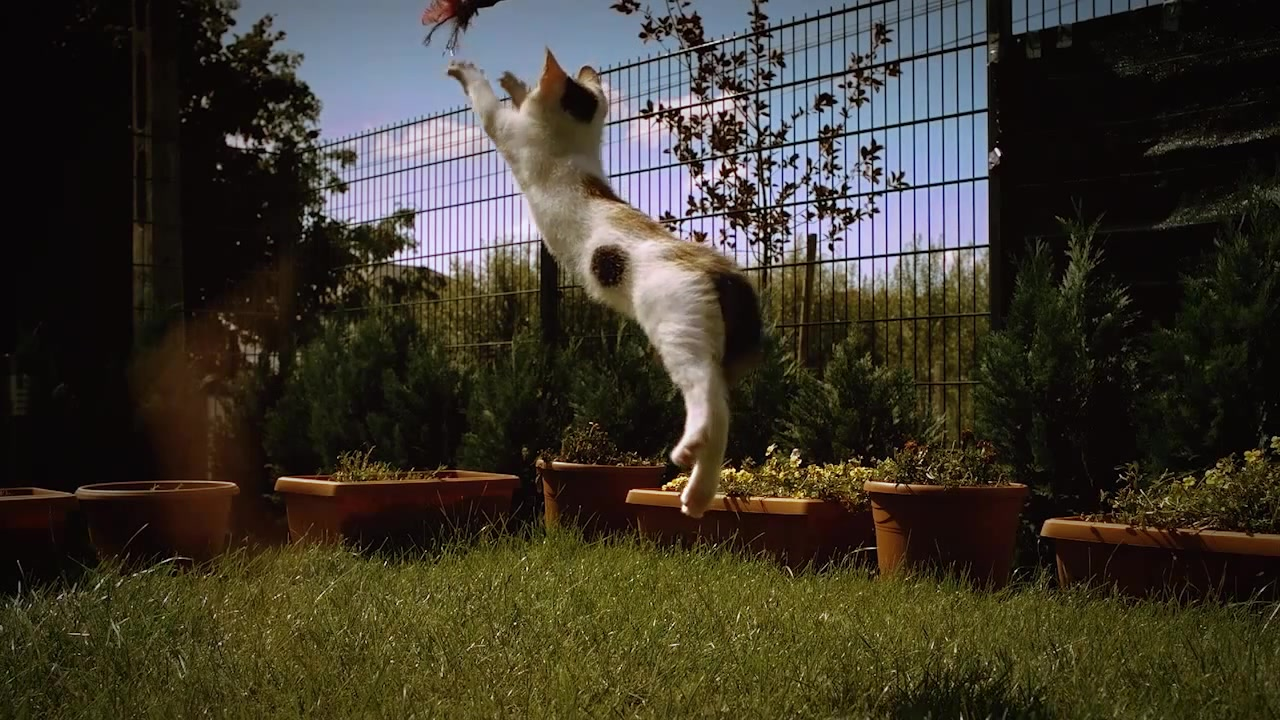cat: (444, 48, 769, 519)
